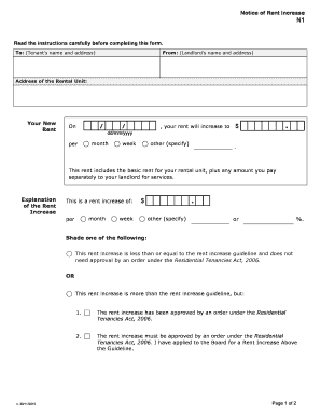checkbox: (82, 307, 94, 317), (82, 331, 92, 342), (81, 139, 92, 148), (112, 140, 122, 148), (65, 289, 73, 299), (140, 140, 149, 148), (80, 213, 87, 223), (137, 214, 145, 222), (65, 250, 73, 258), (110, 214, 117, 222)
textbox: (12, 83, 309, 109), (158, 53, 310, 81), (11, 54, 163, 80), (82, 119, 157, 133), (143, 193, 211, 207), (239, 120, 306, 133), (186, 192, 198, 207), (143, 194, 156, 207), (156, 194, 169, 207), (199, 193, 211, 207), (82, 120, 94, 133), (266, 120, 278, 133), (274, 120, 286, 133), (179, 193, 191, 206), (294, 120, 307, 131), (194, 193, 205, 206), (239, 119, 249, 133), (102, 119, 114, 130), (111, 119, 122, 131), (140, 119, 151, 131), (253, 119, 264, 131), (260, 119, 271, 131), (288, 120, 300, 131), (172, 194, 183, 206), (152, 193, 162, 206), (95, 120, 107, 130), (126, 119, 136, 131), (133, 119, 143, 131), (147, 119, 157, 131), (280, 120, 292, 130), (166, 195, 176, 207), (89, 121, 99, 131), (119, 120, 129, 130), (246, 120, 256, 130)
textline: (192, 140, 233, 152), (242, 217, 296, 226), (190, 217, 231, 226)
